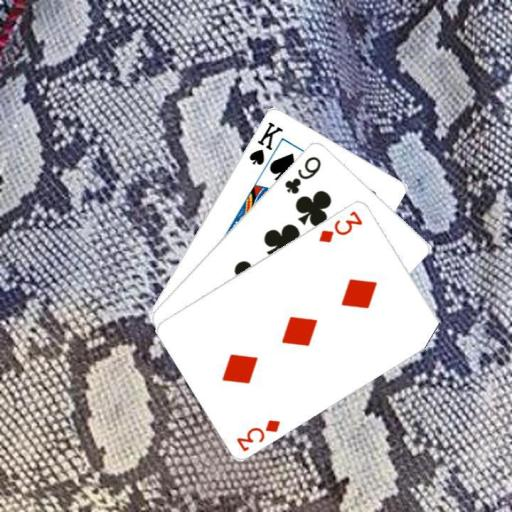3D: (234, 415, 283, 453), (316, 207, 364, 244)
9C: (281, 152, 323, 196)
KS: (246, 118, 285, 166)
